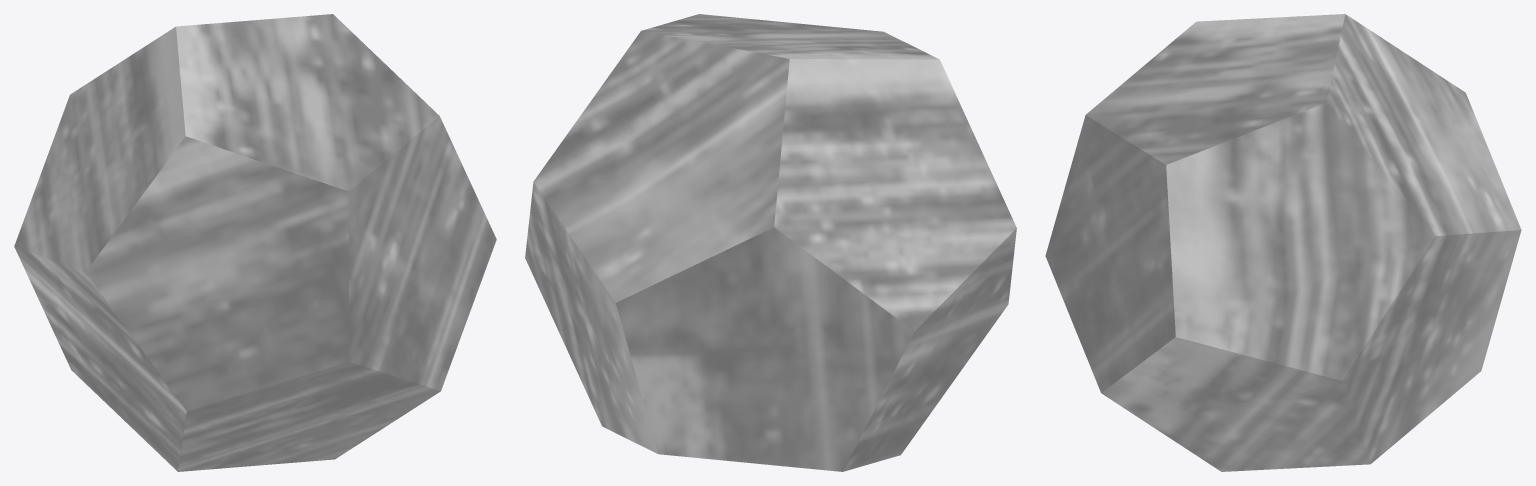
3 renders of one model, left to right at view 1: azimuth 30°, elevation 25°; view 2: azimuth 150°, elevation 25°; view 3: azimuth 270°, elevation 25°, orthographic. The views are drawn at different scales.
Parts seen in each view (by area): view 1: Hedra019; view 2: Hedra019; view 3: Hedra019.
Part boxes in pixels (x1,y1,x2,y2): Hedra019: [14, 14, 496, 471]; Hedra019: [525, 14, 1016, 471]; Hedra019: [1045, 14, 1521, 471].
Size of the model in its own units: 66.16 by 65.24 by 68.54.
1 material, 1 textured.
